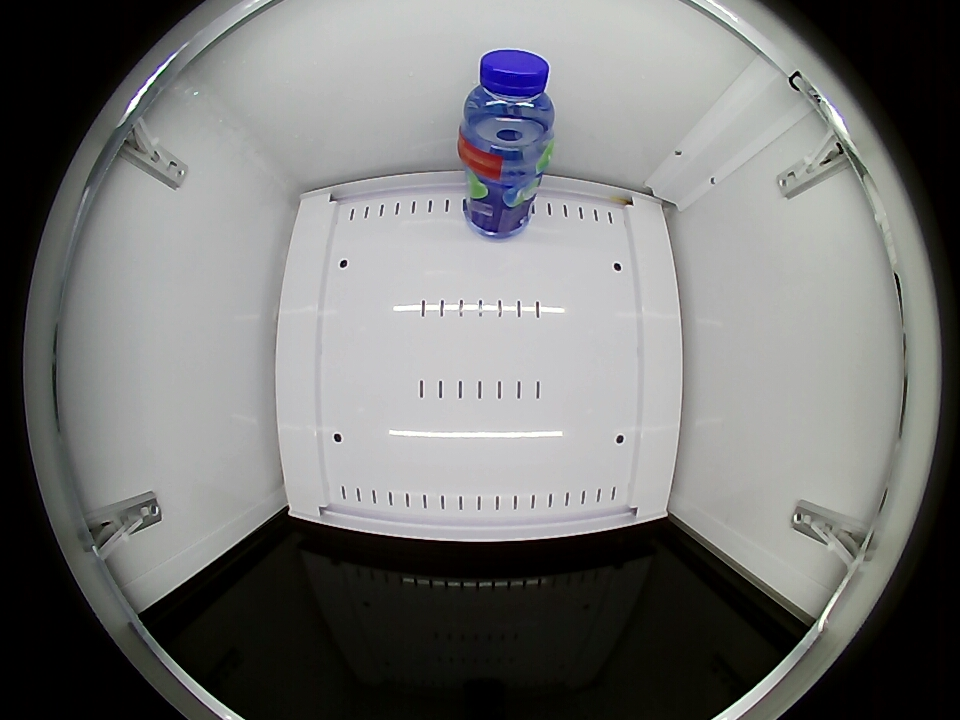maidong: (460, 48, 555, 162)
